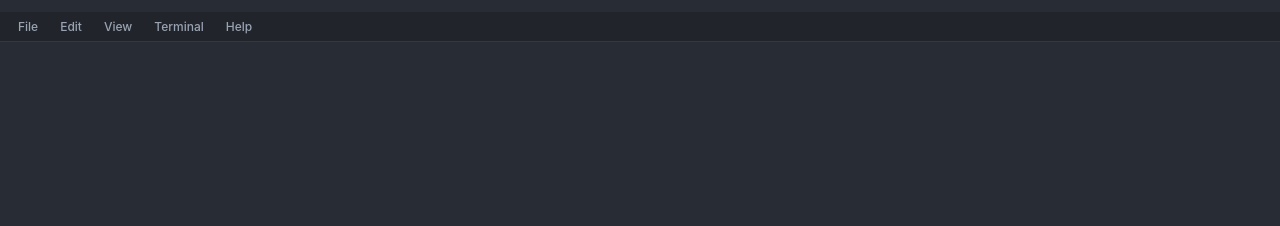
Test: MenuBar › "about" item does not show a shortcut even though it has a commandId
This screenshot has width=1280, height=226.
Step 1. Click the menu item with class "menu-bar-title" showing "Help" → (239, 26), box [216,14,262,40]
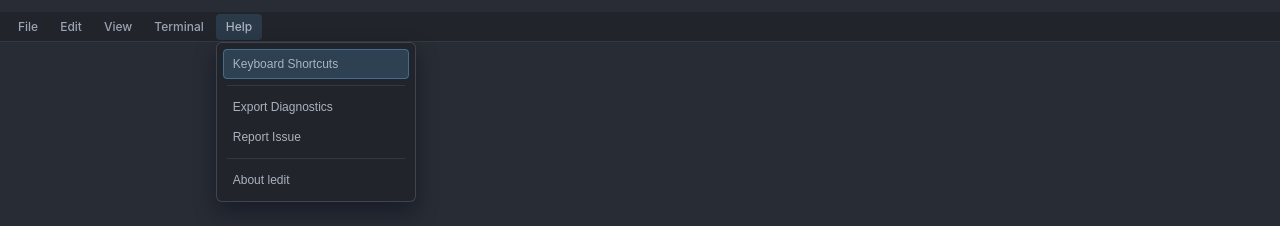
Expected: the menu item with class "context-menu-item" showing "About ledit" is shown, [223,164,409,194]
